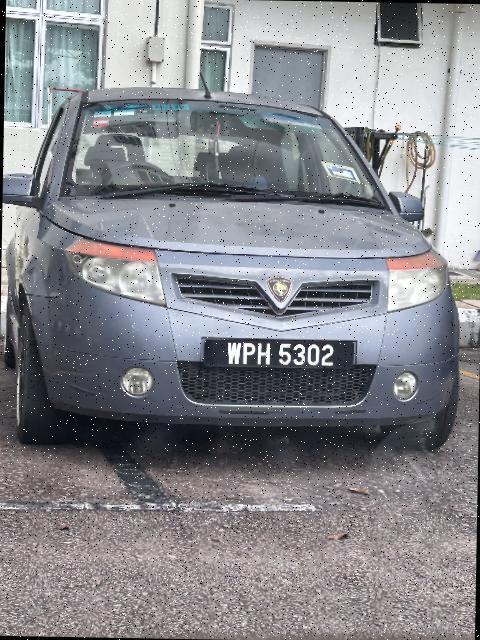License_Plate: (200, 337, 360, 376)
WPH5302: (200, 337, 360, 376)
car: (1, 74, 473, 469)
